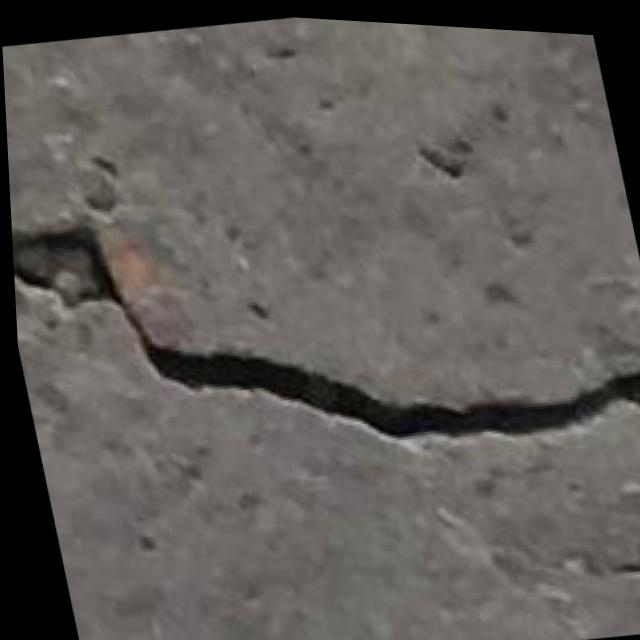Crack: (5, 121, 640, 521)
